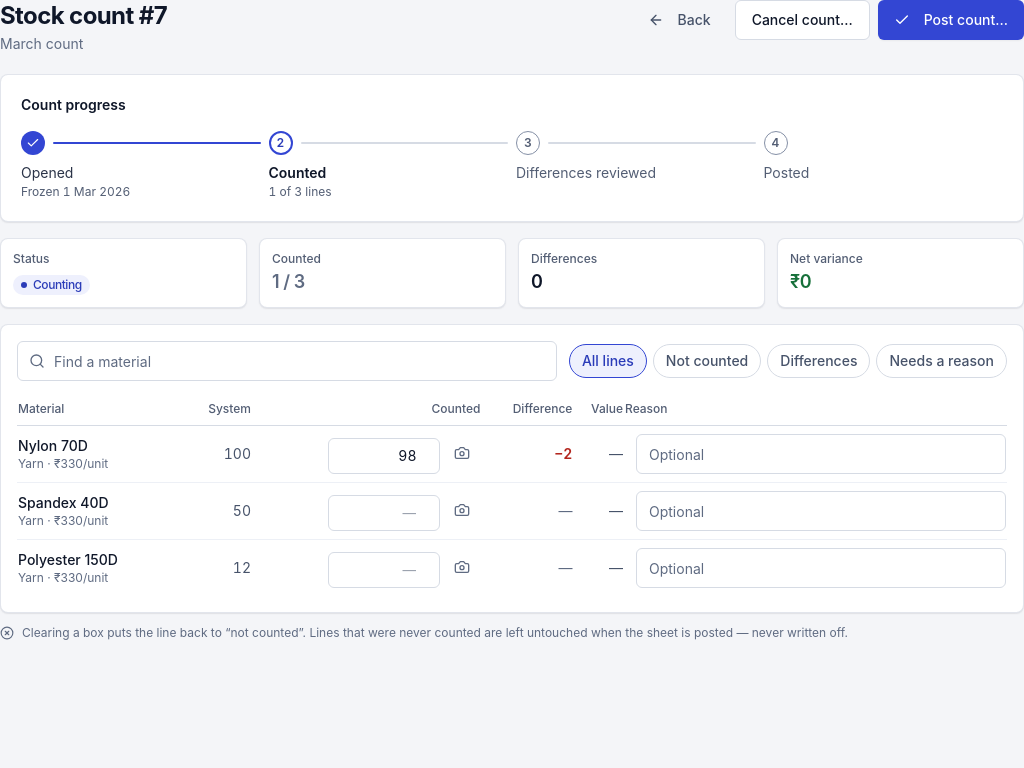
it: what each answer does › closes when it is put off
Click the button "Post count…": (951, 20) [878,0,1023,40]
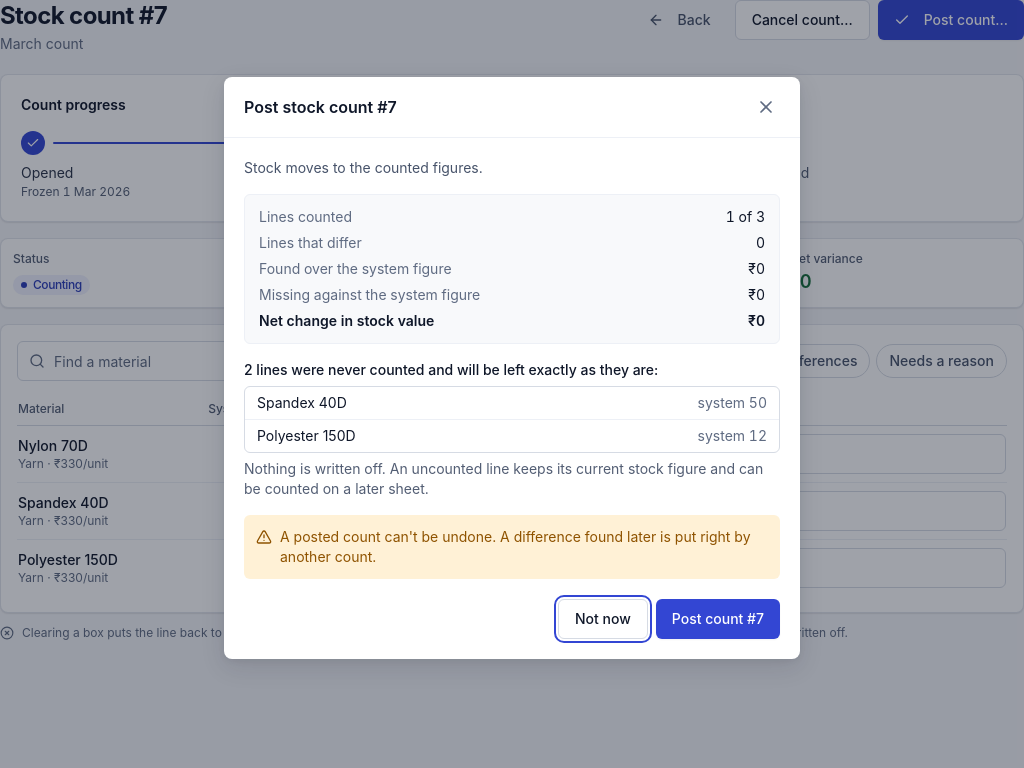
Expected: the dialog is shown
Click the button "Not now": (603, 619) [558,599,648,639]
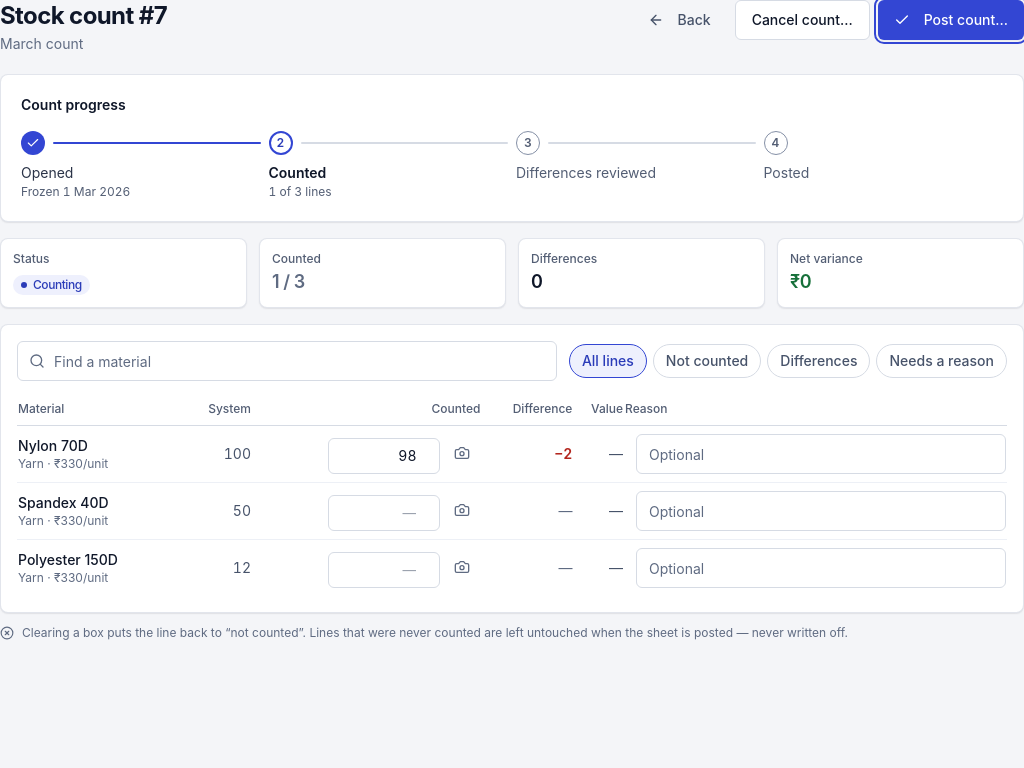
Expected: the dialog is gone
